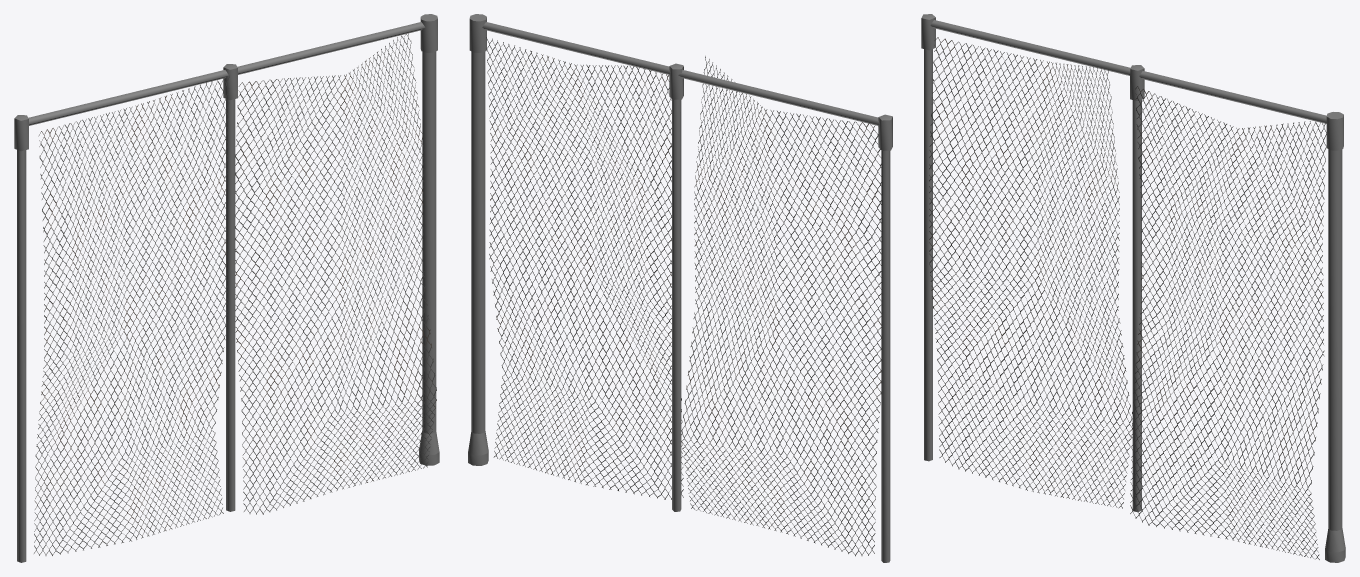
3 renders of one model, left to right at view 1: azimuth 30°, elevation 25°; view 2: azimuth 150°, elevation 25°; view 3: azimuth 330°, elevation 25°, orthographic.
Parts seen in each view (by area): view 1: body0_model0_lod0_mesh1, body0_model0_lod0_mesh0; view 2: body0_model0_lod0_mesh1, body0_model0_lod0_mesh0; view 3: body0_model0_lod0_mesh1, body0_model0_lod0_mesh0.
Boxes of the visible parts, <box> form: body0_model0_lod0_mesh1: <box>34,33,436,555</box>; body0_model0_lod0_mesh0: <box>14,14,439,562</box>; body0_model0_lod0_mesh1: <box>486,37,881,556</box>; body0_model0_lod0_mesh0: <box>468,14,892,562</box>; body0_model0_lod0_mesh1: <box>929,37,1326,559</box>; body0_model0_lod0_mesh0: <box>921,14,1345,562</box>.
Size of the model in its own units: 259 by 264 by 23.61.
2 materials, 1 textured.
